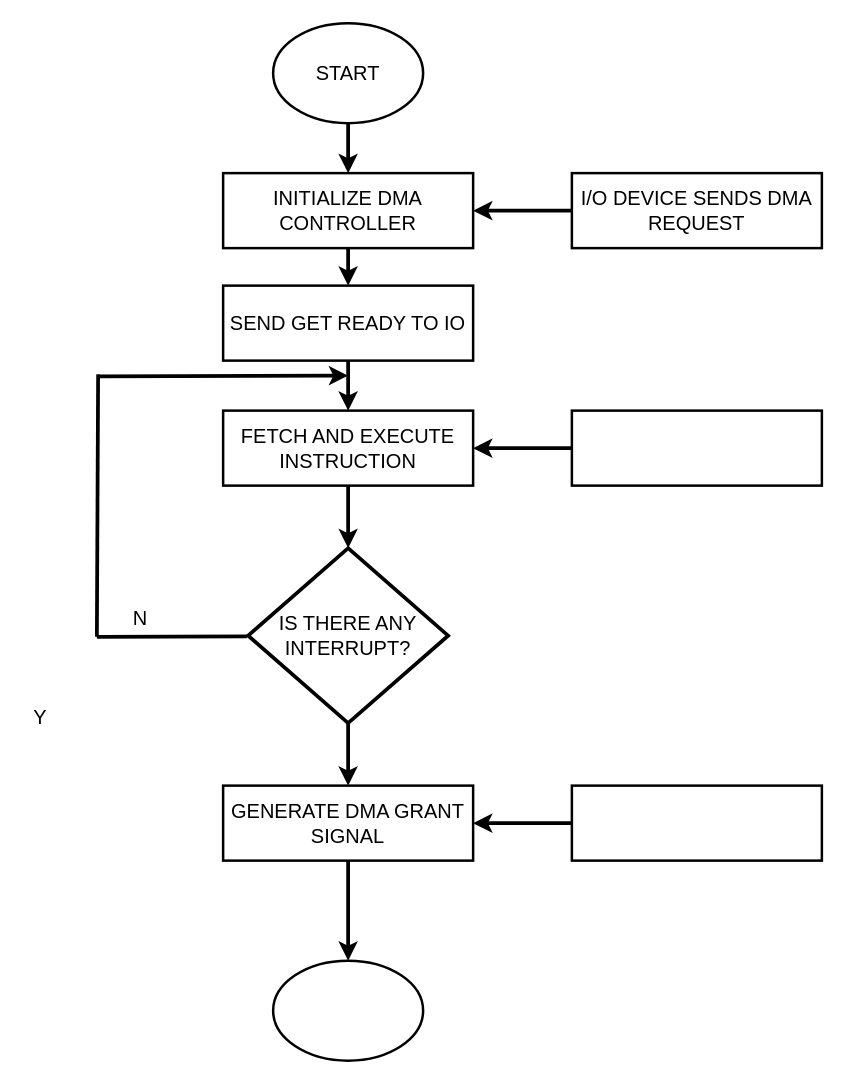
Some shapes in this 844 by 1083 pixel diagram are drawn without their labels. The box of each missing label's shape, as (x1, y1, x2, y2) in pixels:
DMA CONTROLLER SENDS DMA REQ: (570, 409, 822, 486)
END: (271, 959, 424, 1061)
PERFORM BLOCK DATA TRANSFER: (570, 784, 822, 861)
